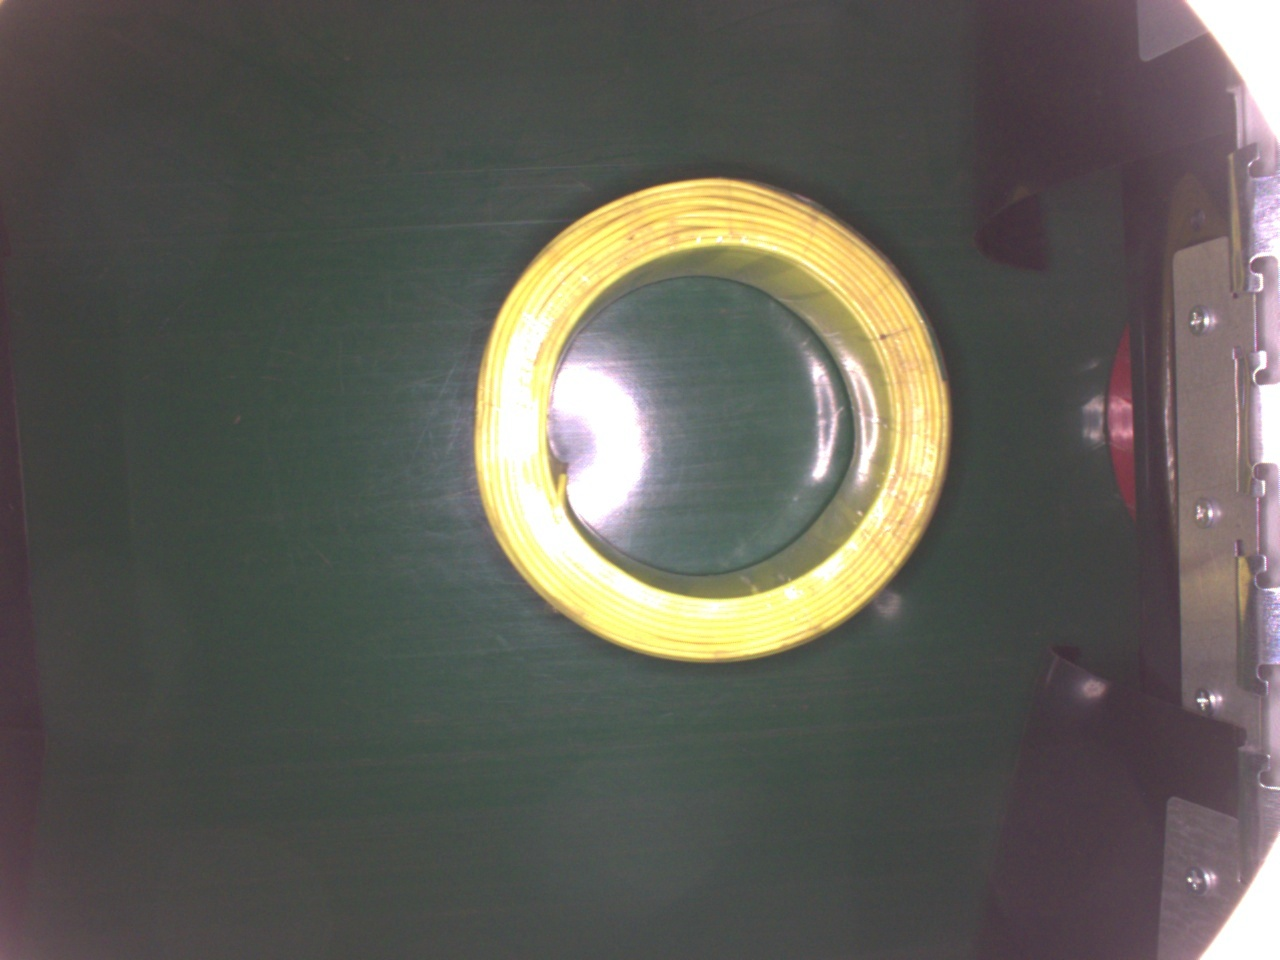yellow: (469, 173, 953, 667)
